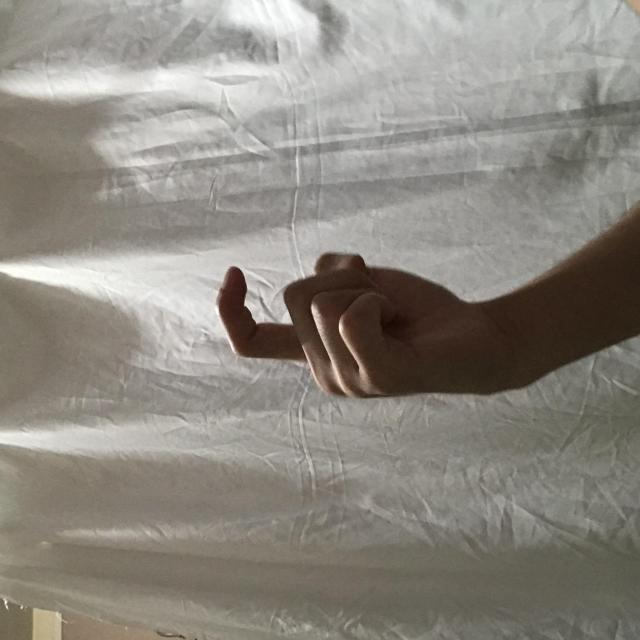X: (244, 214, 389, 507)
